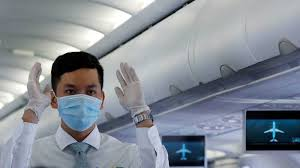with_mask: (45, 53, 113, 129)
